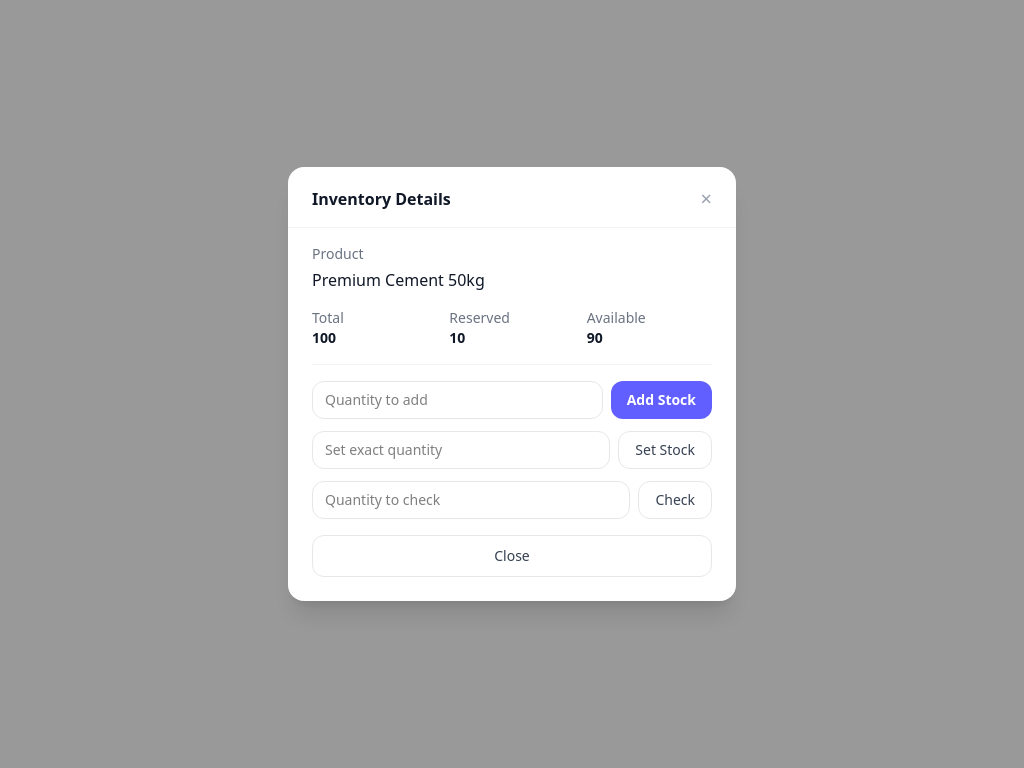
Test case: InventoryDetailModal › checks availability and shows the result
Step 1. Type "5" into the number field labelled "Quantity to check" → (471, 500), box [312,481,630,519]
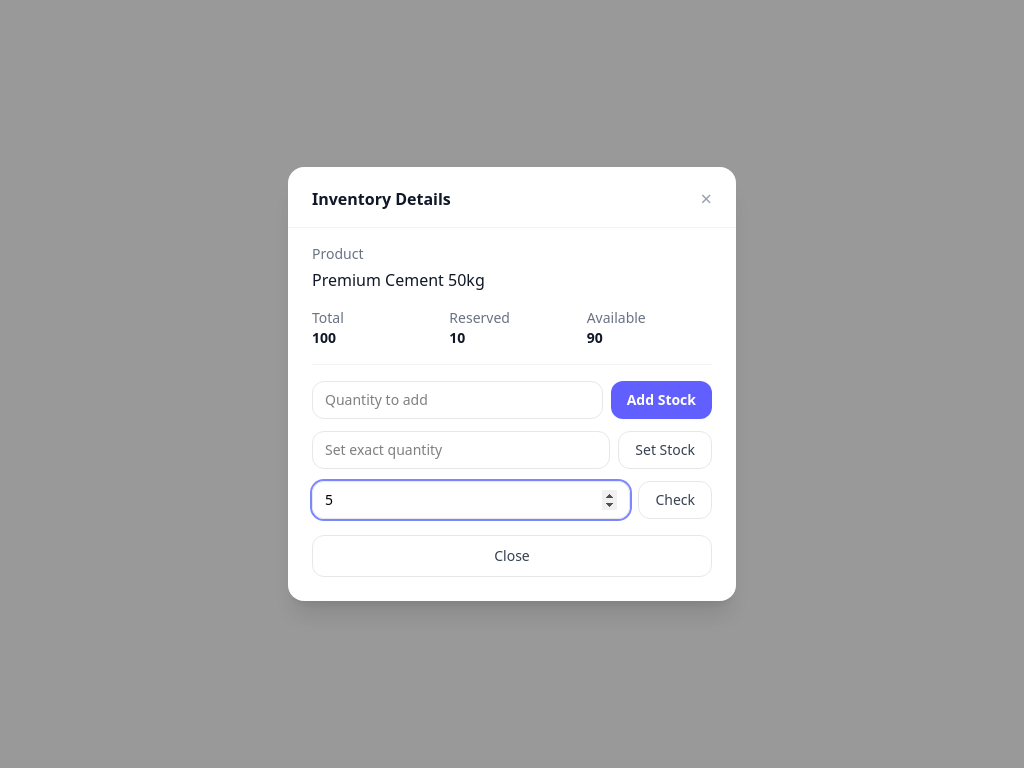
Step 2. Click the button "Check" → (675, 500), box [638,481,712,519]
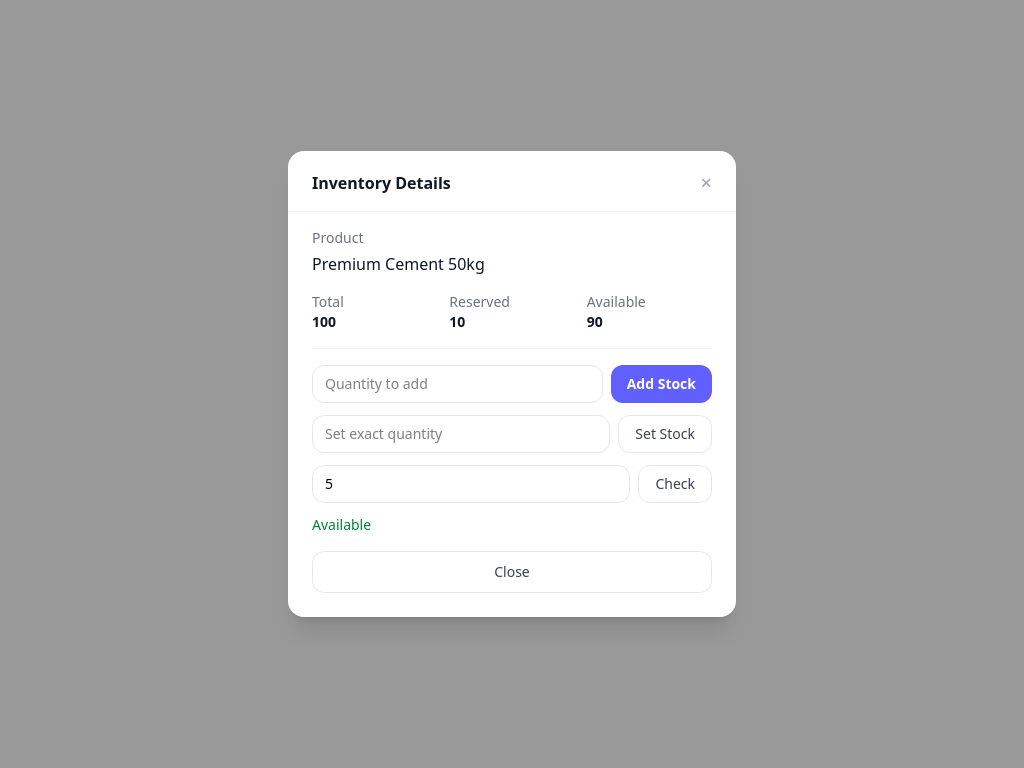
Expected: the 2nd text "Available" is shown, [312,515,371,534]
